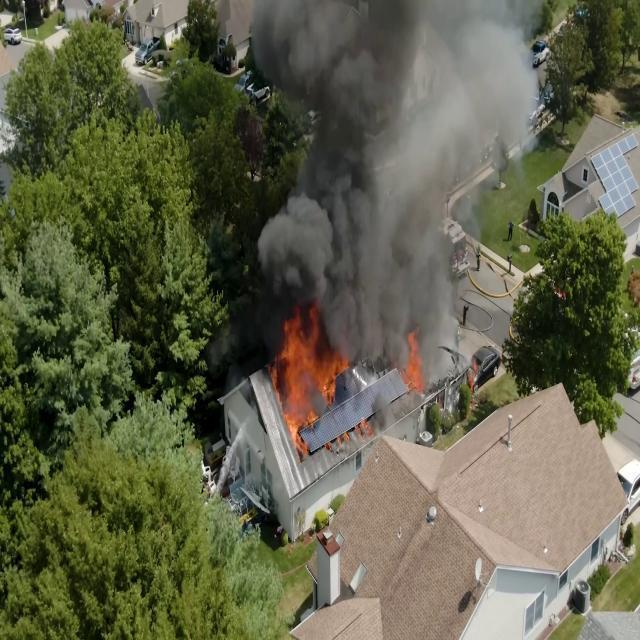Fire: (262, 312, 364, 441), (396, 348, 421, 396)
Smoke: (311, 29, 425, 306), (390, 34, 445, 308)
